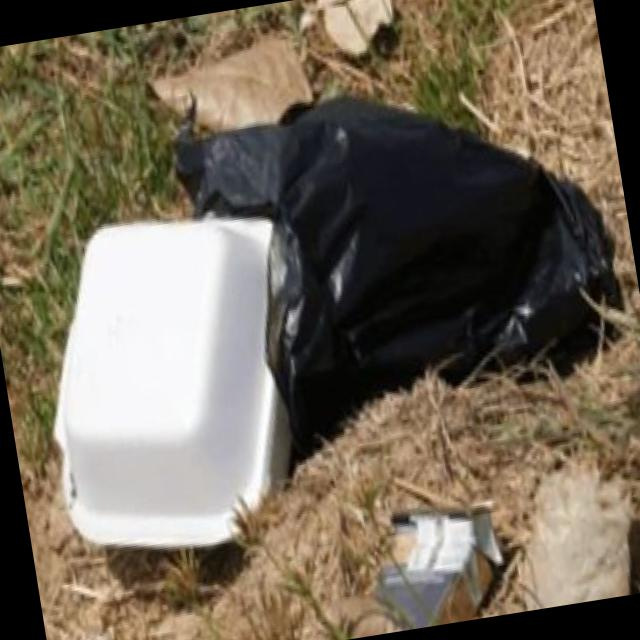electronic: (19, 193, 326, 570)
general: (162, 39, 640, 468)
